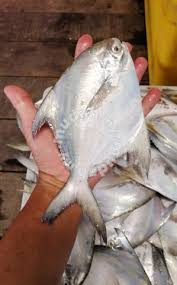Ikan Bawal: (25, 28, 151, 233)
